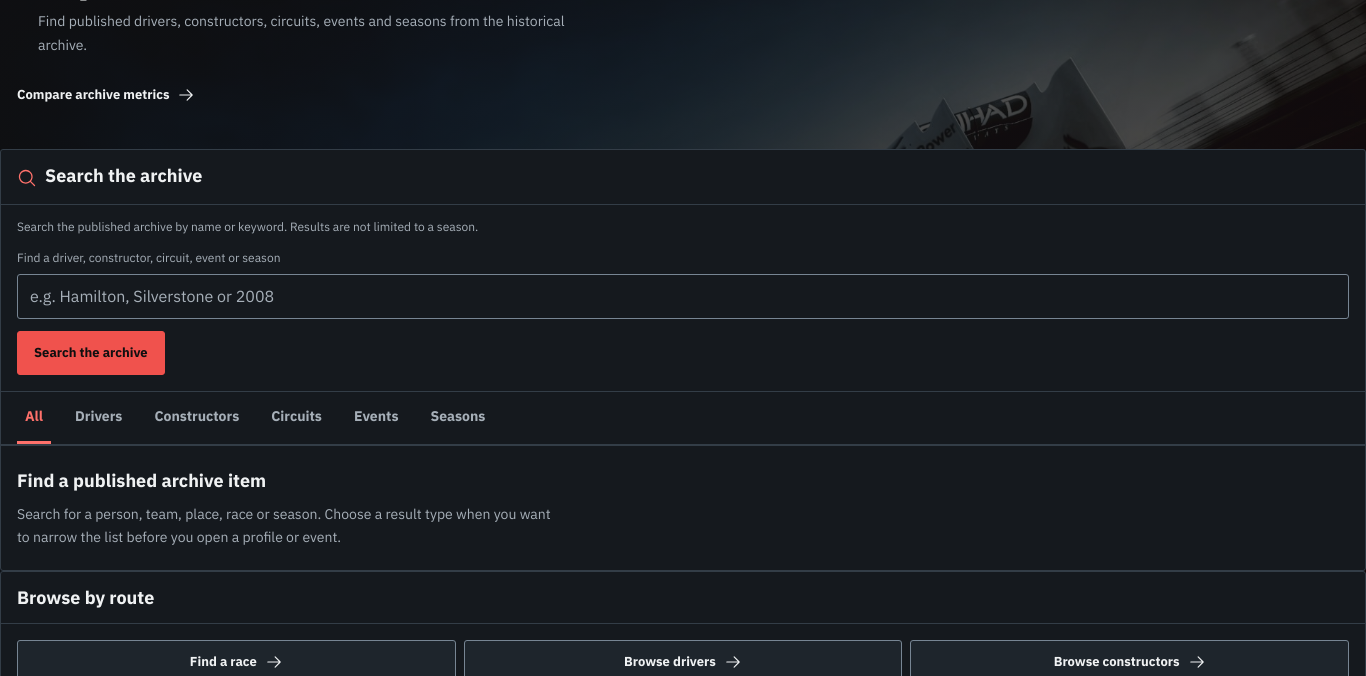
it: explore keeps cursor pagination on the returned snapshot and has a recoverable empty state
Type "Example" into the field labelled "Find a driver, constructor, circuit, event or season" at (683, 296), box [17,274,1349,319]
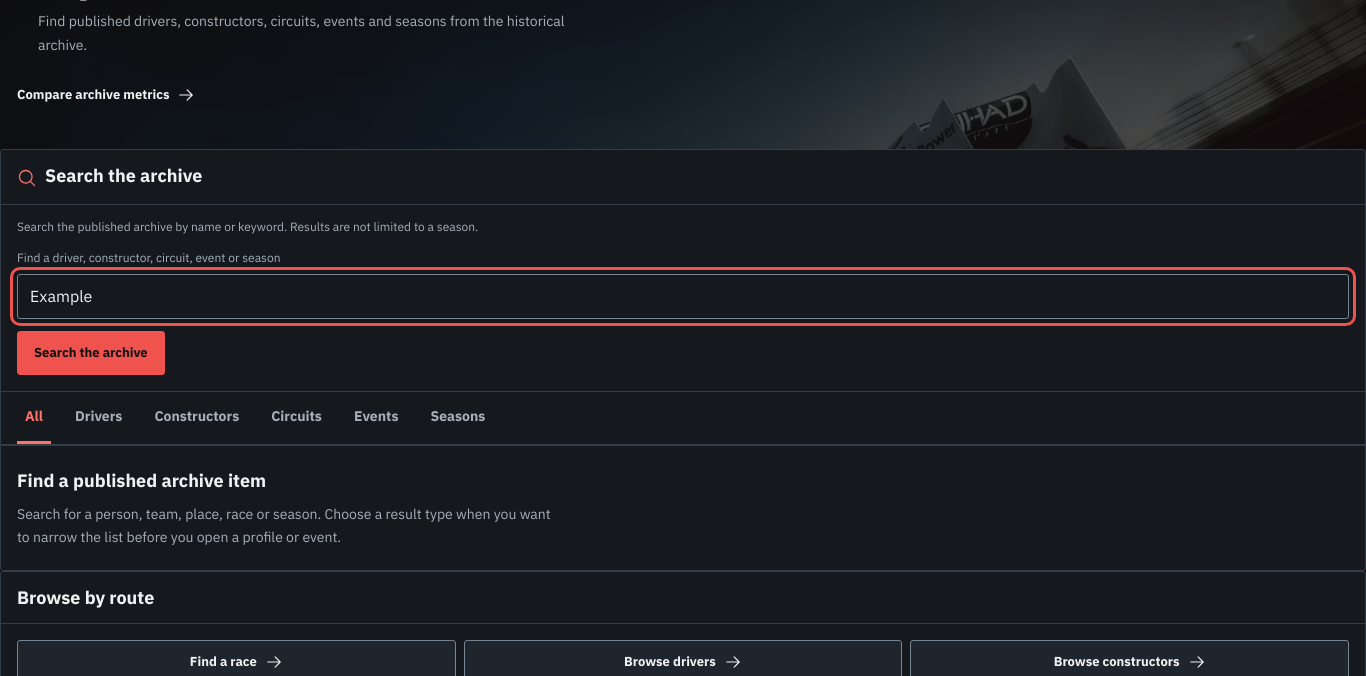
Click the button "Search the archive" at (91, 353), box [17,331,165,375]
(page scrolled)
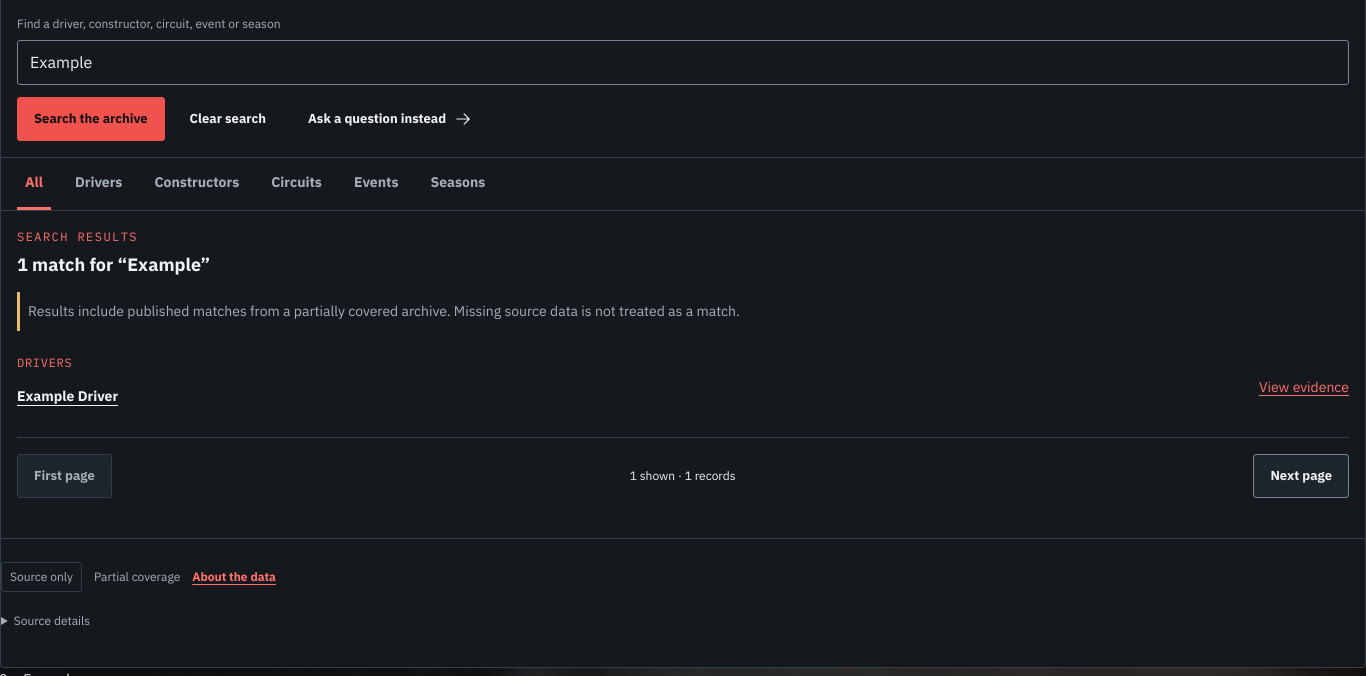
Expected: the text "Example Driver" is shown, [17,387,118,407]
Click the button "Next page" at (1301, 476), box [1254,454,1349,498]
(page scrolled)
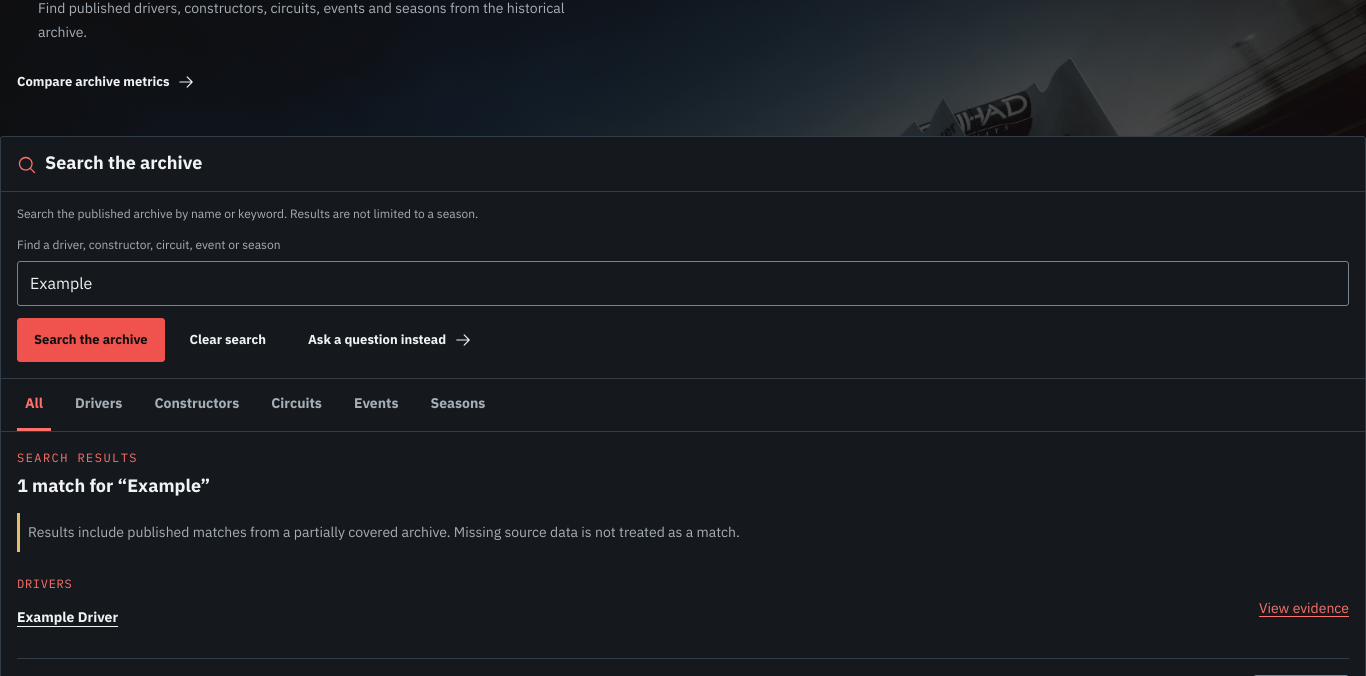
Click the button "Clear search" at (228, 340), box [173,318,283,362]
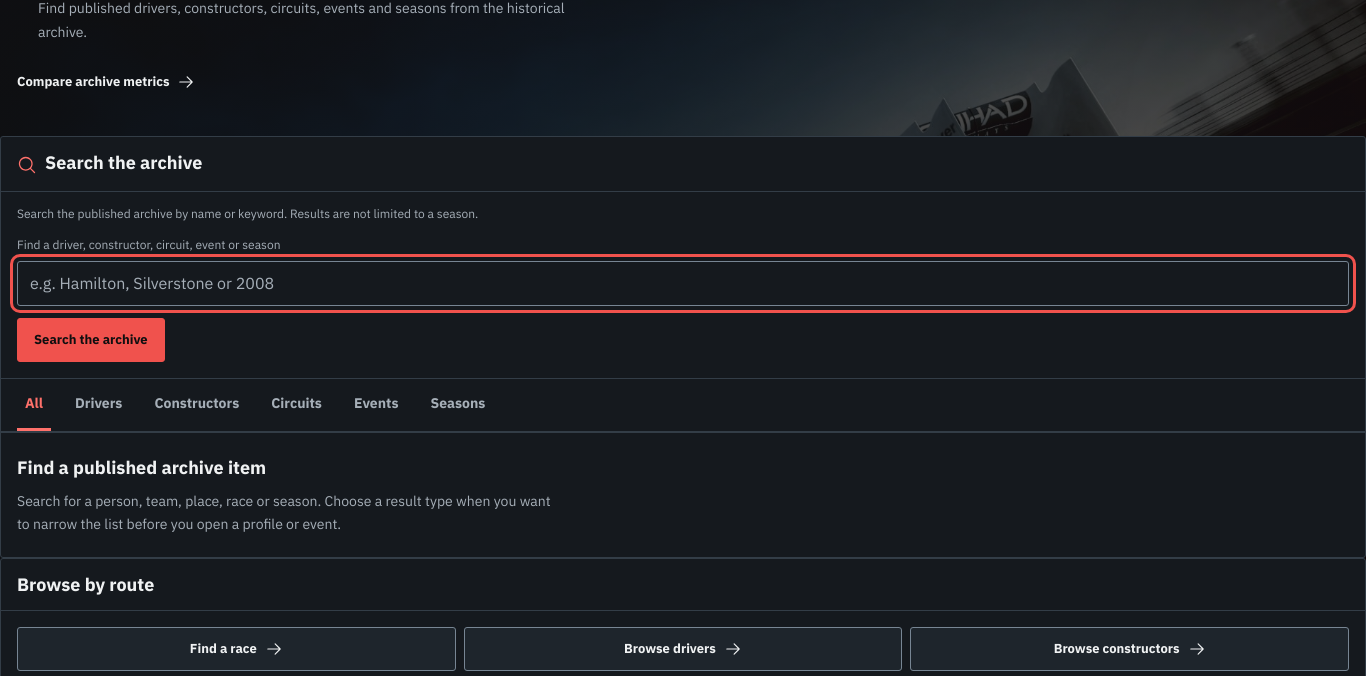
Type "zzzz" into the field labelled "Find a driver, constructor, circuit, event or season" at (683, 284), box [17,261,1349,306]
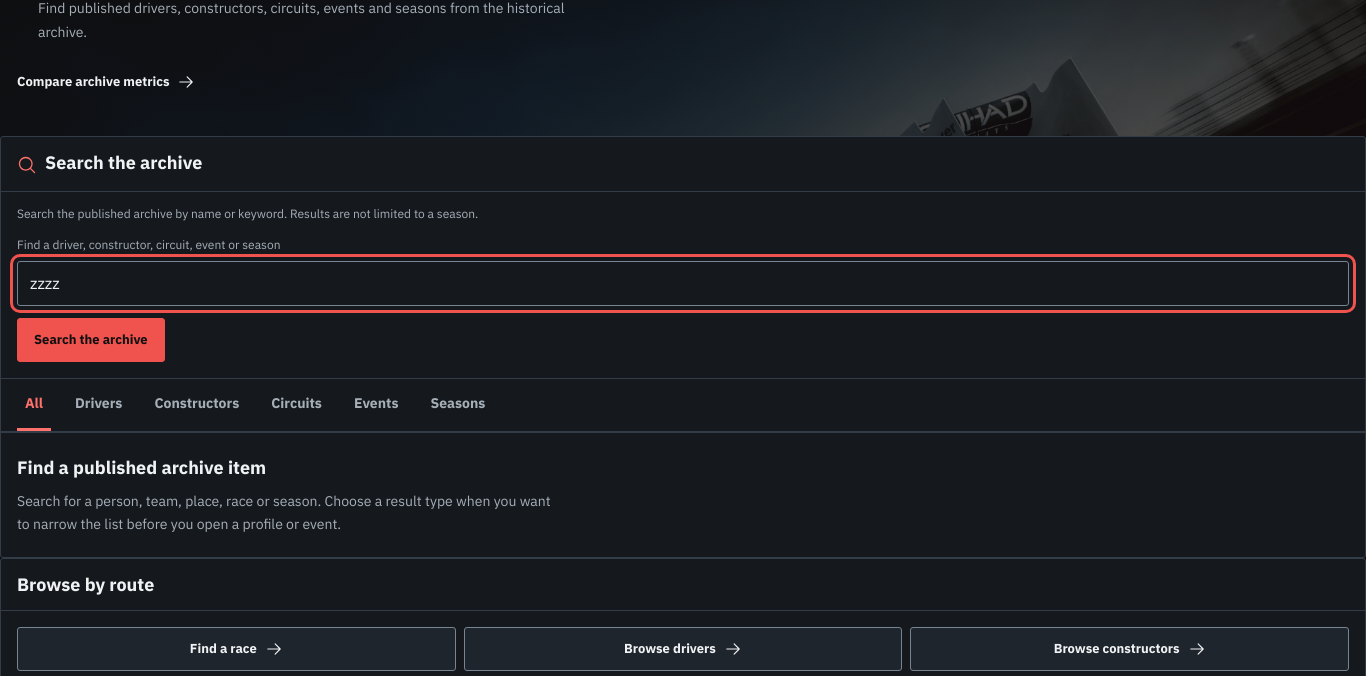
Click the button "Search the archive" at (91, 340), box [17,318,165,362]
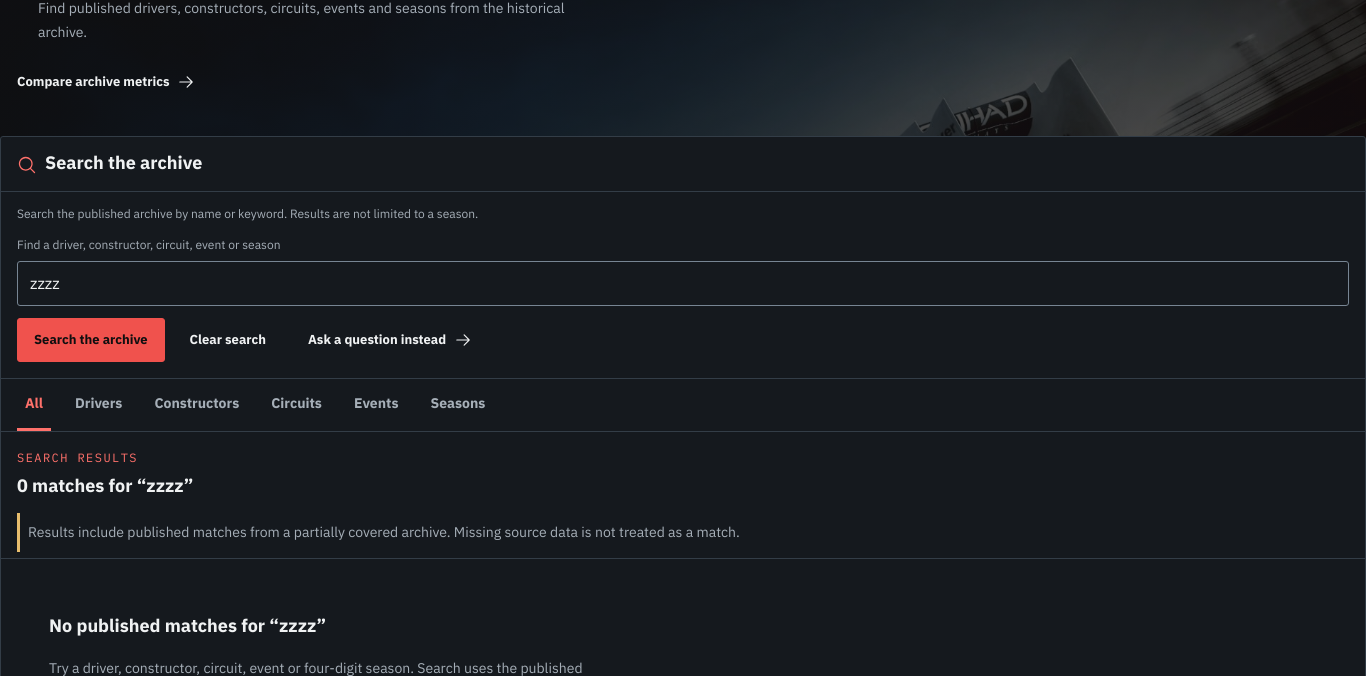
Expected: the heading "No published matches for “zzzz”" is shown, [49,611,326,641]
Expected: the number of buttons "Clear search" is 2
